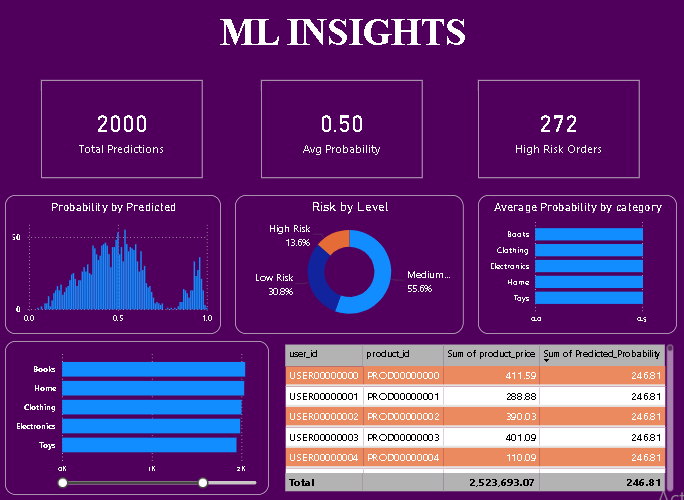

Layout of this report page (visuals, bound fields, positions):
{"tool":"powerbi","page":{"name":"ML Insights","canvas":[1280,720],"ordinal":3},"visuals":[{"type":"textbox","box":[302,0,978,120],"z":0},{"type":"textbox","box":[0,0,302,720],"z":1000},{"type":"card","fields":{"Values":["6 3 model_output.Total Predictions"]},"box":[363.6,119.7,228.8,139.4],"z":2000},{"type":"donutChart","fields":{"Category":["6 3 model_output.Risk_Level"],"Y":["CountNonNull(6 3 model_output.Risk_Level)"]},"box":[639.4,281.8,324.2,197],"z":3000},{"type":"columnChart","fields":{"Y":["CountNonNull(6 3 model_output.Predicted_Probability)"],"Category":["6 3 model_output.Predicted_Probability"]},"box":[313.6,281.8,306.1,197],"z":4000},{"type":"slicer","fields":{"Values":["data.product_category"]},"box":[71.2,466.7,160.6,54.5],"z":5000},{"type":"slicer","fields":{"Values":["6 3 model_output.Risk_Level"]},"box":[71.2,521.2,160.6,62.1],"z":6000},{"type":"clusteredBarChart","title":"product_category by product_category","fields":{"Category":["data.product_category"],"Y":["CountNonNull(data.product_category)"]},"box":[313.6,489.4,374.2,218.2],"z":9000},{"type":"pageNavigator","box":[19.8,138.9,262.2,243.8],"z":10000},{"type":"tableEx","fields":{"Values":["data.user_id","data.product_id","Sum(data.product_price)","Sum(6 3 model_output.Predicted_Probability)"]},"box":[704.5,489.4,560.6,218.2],"z":11000},{"type":"card","fields":{"Values":["6 3 model_output.Avg Probability"]},"box":[675.8,119.7,228.8,139.4],"z":12000},{"type":"card","fields":{"Values":["6 3 model_output.High Risk Orders"]},"box":[983.3,119.7,228.8,139.4],"z":13000},{"type":"clusteredBarChart","fields":{"Category":["data.product_category"],"Y":["Avg(6 3 model_output.Predicted_Probability)"]},"box":[983.3,281.8,281.8,197],"z":14000}]}

Visuals, with their boxes on the page's 1280x720 design canvas (x1, y1, x2, y2). These are canvas units, not pixel positions in the 684x500 screenshot, which may show the page scaled, cropped or inside an application window:
textbox: region(302, 0, 1280, 120)
textbox: region(0, 0, 302, 720)
card - 6 3 model_output.Total Predictions: region(364, 120, 592, 259)
donutChart - 6 3 model_output.Risk_Level x CountNonNull(6 3 model_output.Risk_Level): region(639, 282, 964, 479)
columnChart - CountNonNull(6 3 model_output.Predicted_Probability) x 6 3 model_output.Predicted_Probability: region(314, 282, 620, 479)
slicer - data.product_category: region(71, 467, 232, 521)
slicer - 6 3 model_output.Risk_Level: region(71, 521, 232, 583)
"product_category by product_category" clusteredBarChart: region(314, 489, 688, 708)
pageNavigator: region(20, 139, 282, 383)
tableEx - data.user_id x data.product_id: region(704, 489, 1265, 708)
card - 6 3 model_output.Avg Probability: region(676, 120, 905, 259)
card - 6 3 model_output.High Risk Orders: region(983, 120, 1212, 259)
clusteredBarChart - data.product_category x Avg(6 3 model_output.Predicted_Probability): region(983, 282, 1265, 479)
